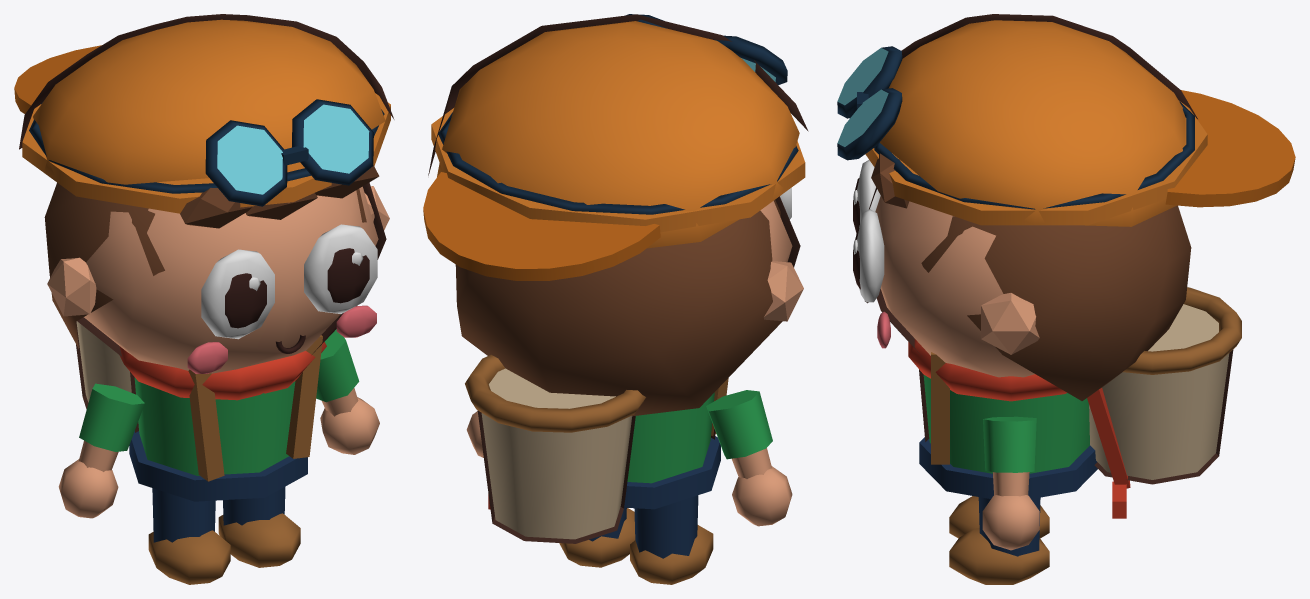
File: player.glb
3 renders of one model, left to right at view 1: azimuth 30°, elevation 25°; view 2: azimuth 150°, elevation 25°; view 3: azimuth 270°, elevation 25°, orthographic. The views are drawn at different scales.
Parts seen in each view (by area): view 1: head_mesh, player_mesh, arm_L_mesh, leg_L_mesh, arm_R_mesh, leg_R_mesh, basket_mesh; view 2: head_mesh, basket_mesh, player_mesh, arm_L_mesh, leg_L_mesh, leg_R_mesh; view 3: head_mesh, player_mesh, basket_mesh, arm_R_mesh, leg_R_mesh, leg_L_mesh.
Boxes of the visible parts, bbox=[...] form: head_mesh: bbox=[14, 14, 394, 373]; player_mesh: bbox=[119, 335, 326, 501]; arm_L_mesh: bbox=[58, 383, 144, 518]; leg_L_mesh: bbox=[148, 488, 230, 584]; arm_R_mesh: bbox=[316, 329, 379, 454]; leg_R_mesh: bbox=[218, 486, 300, 567]; basket_mesh: bbox=[76, 321, 131, 408]; head_mesh: bbox=[423, 14, 808, 416]; basket_mesh: bbox=[465, 354, 645, 543]; player_mesh: bbox=[488, 378, 728, 509]; arm_L_mesh: bbox=[706, 390, 792, 526]; leg_L_mesh: bbox=[630, 495, 713, 584]; leg_R_mesh: bbox=[559, 507, 635, 567]; head_mesh: bbox=[837, 14, 1295, 400]; player_mesh: bbox=[908, 339, 1130, 518]; basket_mesh: bbox=[1089, 287, 1241, 484]; arm_R_mesh: bbox=[982, 416, 1039, 550]; leg_R_mesh: bbox=[949, 497, 1049, 584]; leg_L_mesh: bbox=[949, 496, 1049, 538].
Bounding box in the file's own units: 0.9906 × 1.48 × 1.17.
